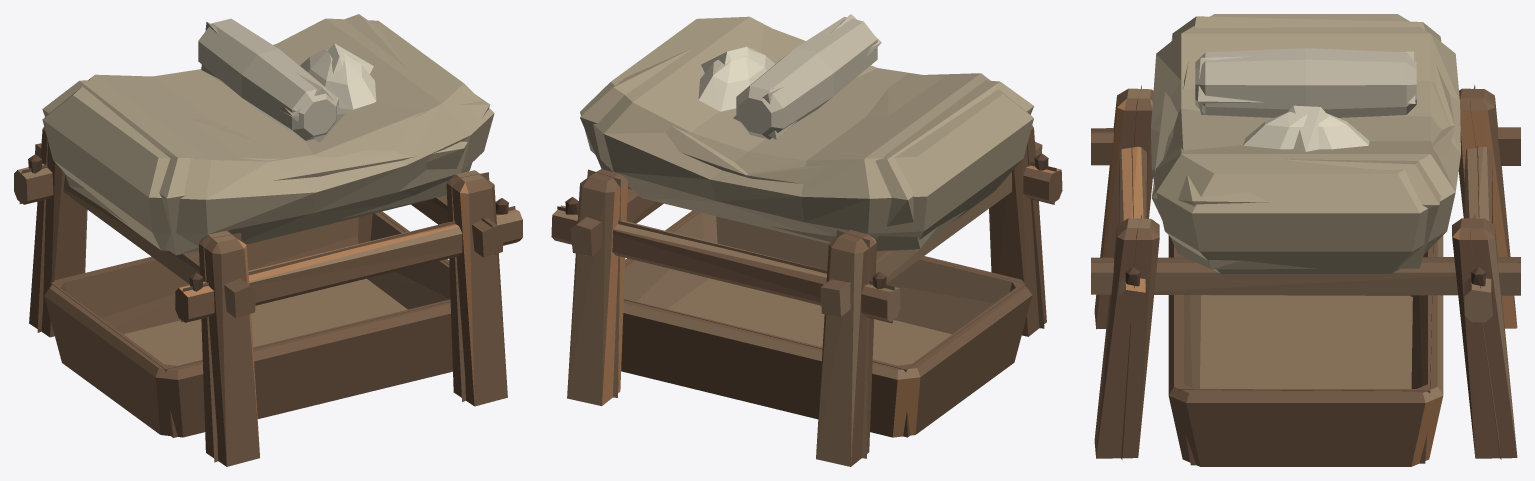
Rendered from pf_quern.glb.
3 renders of one model, left to right at view 1: azimuth 30°, elevation 25°; view 2: azimuth 150°, elevation 25°; view 3: azimuth 270°, elevation 25°, orthographic. The views are drawn at different scales.
Visible parts, largest first — view 1: body, body__far; view 2: body, body__far; view 3: body, body__far.
Boxes of the visible parts, x1,y1,x2,y2 form: body: (14,18,522,466); body__far: (19,14,517,462); body: (551,16,1062,466); body__far: (557,14,1056,458); body: (1091,14,1520,466); body__far: (1091,16,1520,465).
Size of the model in its own units: 0.3529 by 0.3011 by 0.3546.
